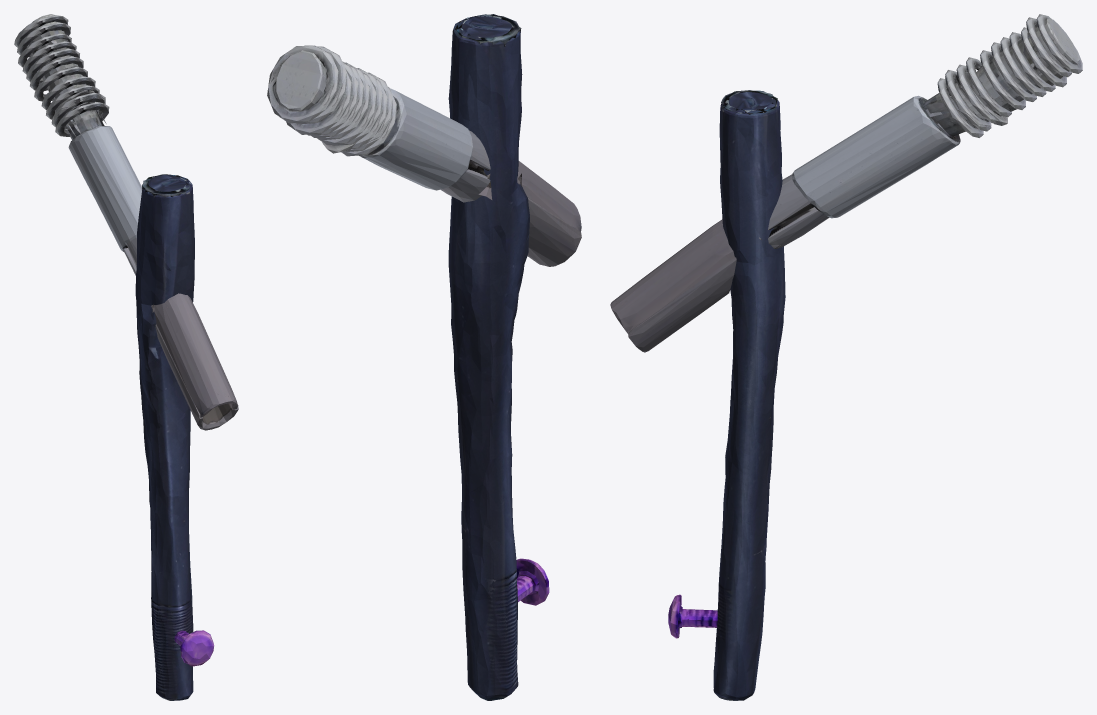
The model's file is pfnuevo.glb.
3 views of the same model, side by side, from view 1: azimuth 30°, elevation 25°; view 2: azimuth 150°, elevation 25°; view 3: azimuth 270°, elevation 25° (orthographic). The views are drawn at different scales.
Parts seen in each view (by area): view 1: tripo_part_5, tripo_part_0 (×2), tripo_part_9, tripo_part_10 (×11), tripo_part_1, tripo_part_15, tripo_part_3; view 2: tripo_part_5, tripo_part_10 (×10), tripo_part_9, tripo_part_0 (×2), tripo_part_1, tripo_part_19, tripo_part_8, tripo_part_3; view 3: tripo_part_5, tripo_part_9, tripo_part_0 (×2), tripo_part_1, tripo_part_8, tripo_part_15, tripo_part_19, tripo_part_11.
Boxes of the visible parts, x1,y1,x2,y2 form: tripo_part_5: (135,174,194,700); tripo_part_0 (×2): (151,293,237,666); tripo_part_9: (65,110,141,251); tripo_part_10 (×11): (14,15,109,136); tripo_part_1: (152,304,238,430); tripo_part_15: (34,30,86,99); tripo_part_3: (142,174,190,197); tripo_part_5: (448,15,529,700); tripo_part_10 (×10): (267,45,396,156); tripo_part_9: (359,88,472,190); tripo_part_0 (×2): (478,161,581,605); tripo_part_1: (487,173,581,266); tripo_part_19: (275,50,326,111); tripo_part_8: (441,130,490,202); tripo_part_3: (455,14,521,46); tripo_part_5: (713,92,785,700); tripo_part_9: (792,87,960,218); tripo_part_0 (×2): (610,219,780,638); tripo_part_1: (628,257,736,352); tripo_part_8: (759,174,829,248); tripo_part_15: (968,33,1040,114); tripo_part_19: (1023,18,1080,85); tripo_part_11: (926,72,1016,136).
Size of the model in its own units: 0.1145 by 1.07 by 0.6758.
25 materials, 25 textured.
